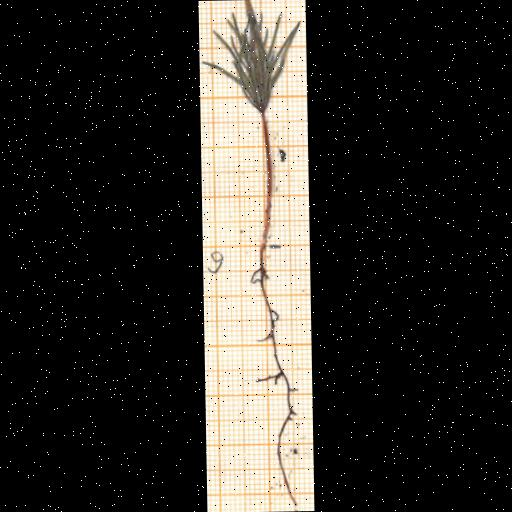flowerPinus: (204, 0, 298, 112)
rootPinus: (253, 249, 297, 508)
stemPinus: (260, 113, 271, 248)
